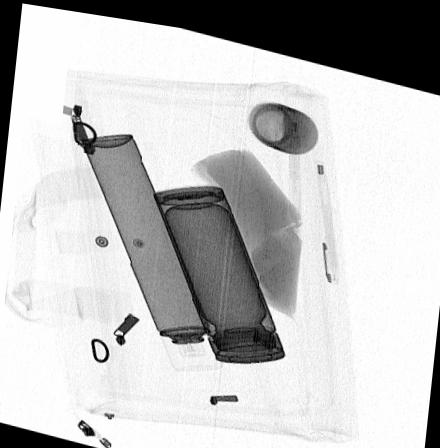Sprayer: (80, 129, 222, 365)
